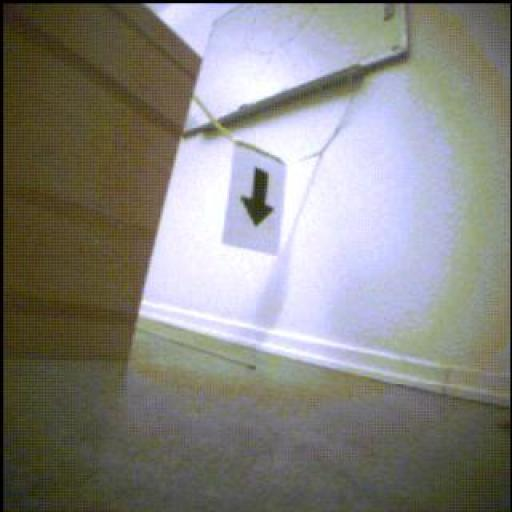arrow: (243, 169, 275, 227)
